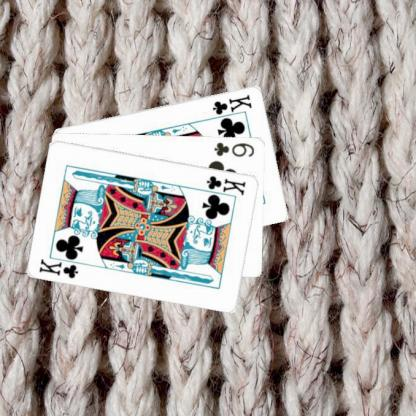6C: (212, 139, 256, 158)
KC: (198, 172, 247, 200), (37, 252, 86, 280), (208, 91, 253, 121)
